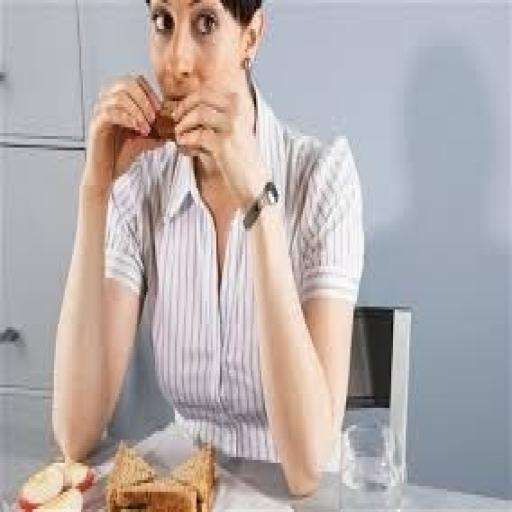eating: (50, 0, 366, 498)
